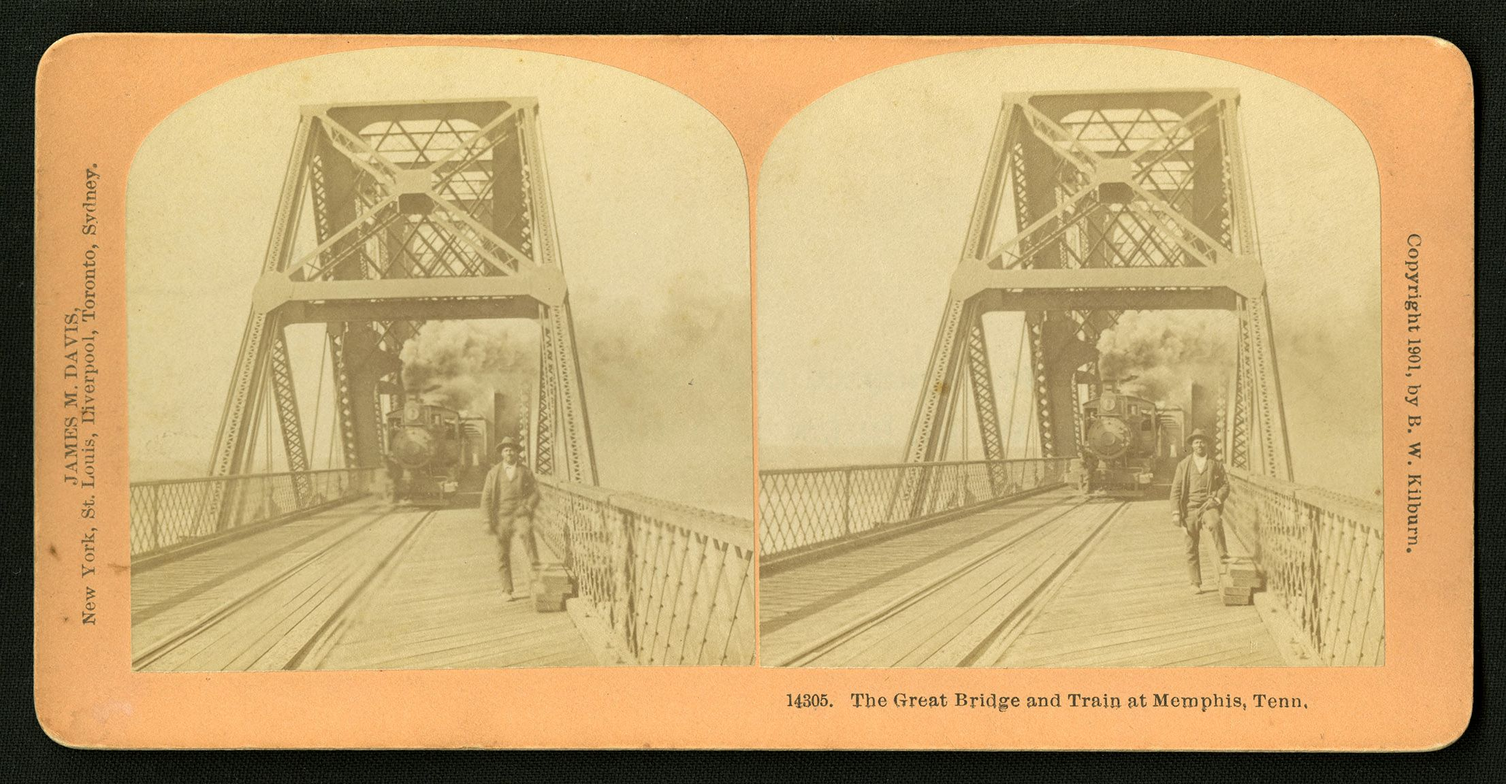half_image: (128, 46, 756, 671), (758, 45, 1385, 666)
